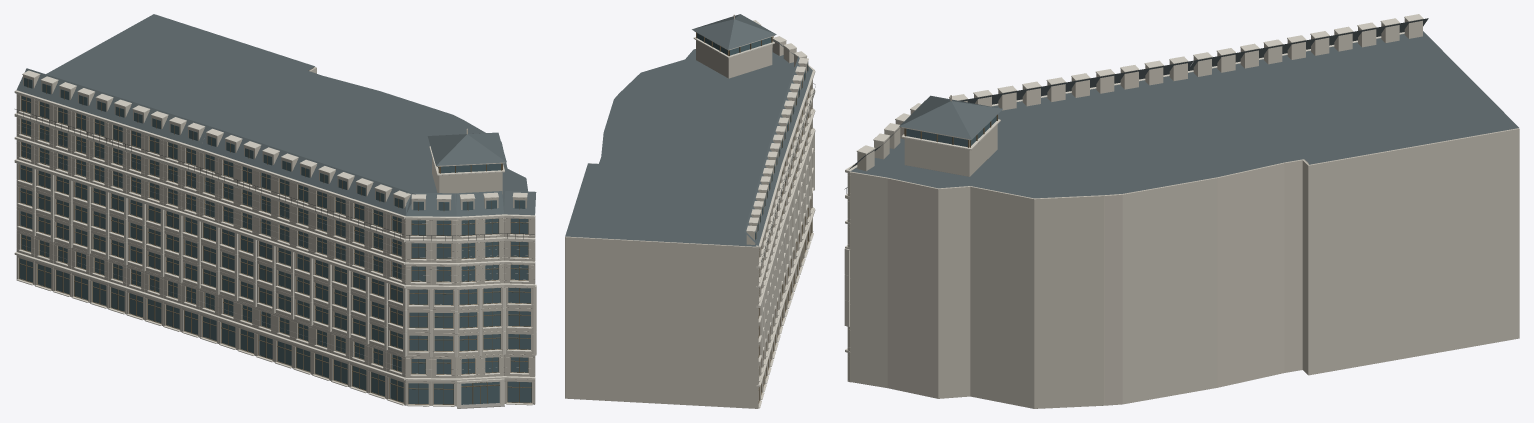
The model's file is 61a-exterior-7a16781c3b7e.glb.
3 renders of one model, left to right at view 1: azimuth 30°, elevation 25°; view 2: azimuth 150°, elevation 25°; view 3: azimuth 270°, elevation 25°, orthographic. The views are drawn at different scales.
Visible parts, largest first — view 1: 61A.001; view 2: 61A.001; view 3: 61A.001.
Boxes of the visible parts, x1=… form: 61A.001: x1=14, y1=14, x2=536, y2=408; 61A.001: x1=565, y1=14, x2=815, y2=408; 61A.001: x1=844, y1=14, x2=1519, y2=408.
Bounding box in the file's own units: 51.25 × 38.5 × 85.72.
